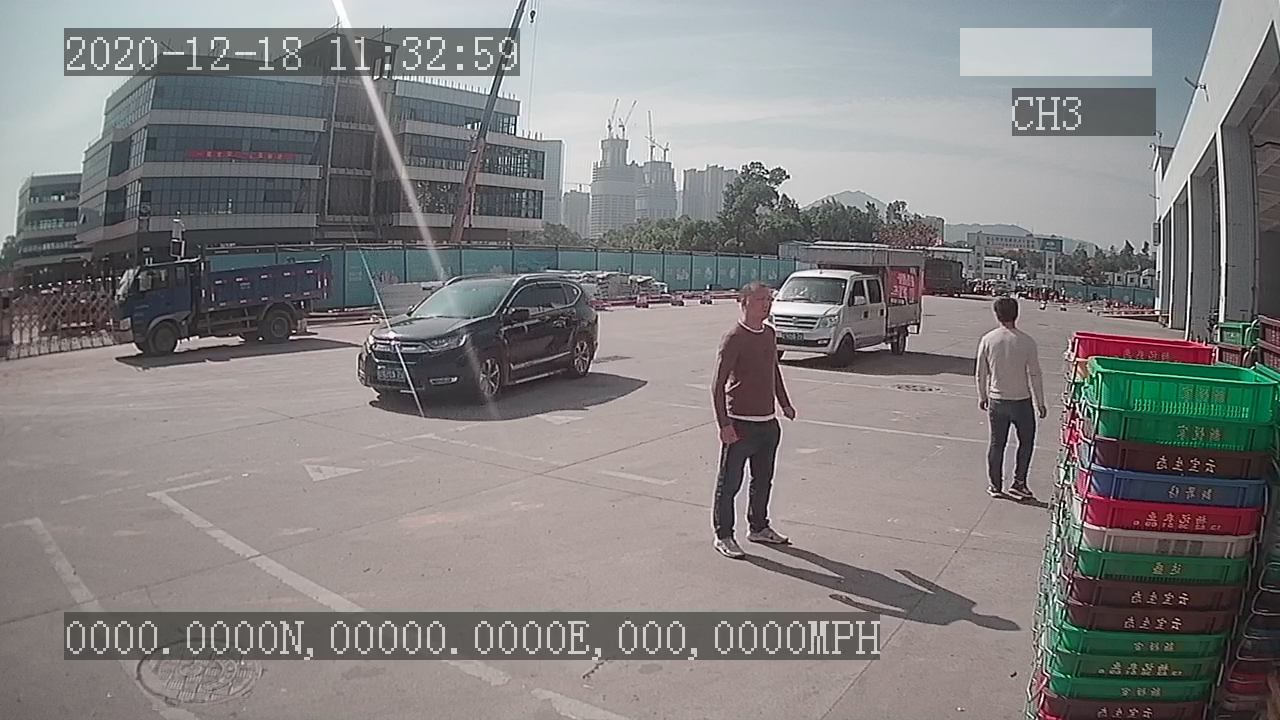person: (971, 292, 1047, 499)
